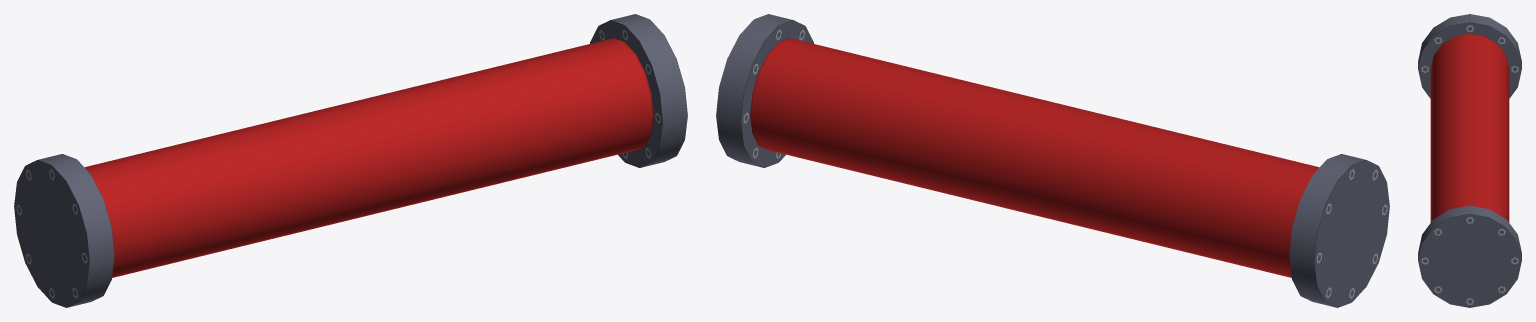
File: Pipe_Bent_01.FBX
The picture shows the model from 3 angles, left to right: view 1: azimuth 30°, elevation 25°; view 2: azimuth 150°, elevation 25°; view 3: azimuth 270°, elevation 25°; orthographic projection. The views are drawn at different scales.
Visible parts, largest first — view 1: Pipe_Bent_01; view 2: Pipe_Bent_01; view 3: Pipe_Bent_01.
Part boxes in pixels (<box>): Pipe_Bent_01: <box>14,14,687,307</box>; Pipe_Bent_01: <box>716,14,1389,307</box>; Pipe_Bent_01: <box>1418,14,1521,307</box>.
Bounding box in the file's own units: 6 × 1.32 × 1.32.
2 materials, 2 textured.
